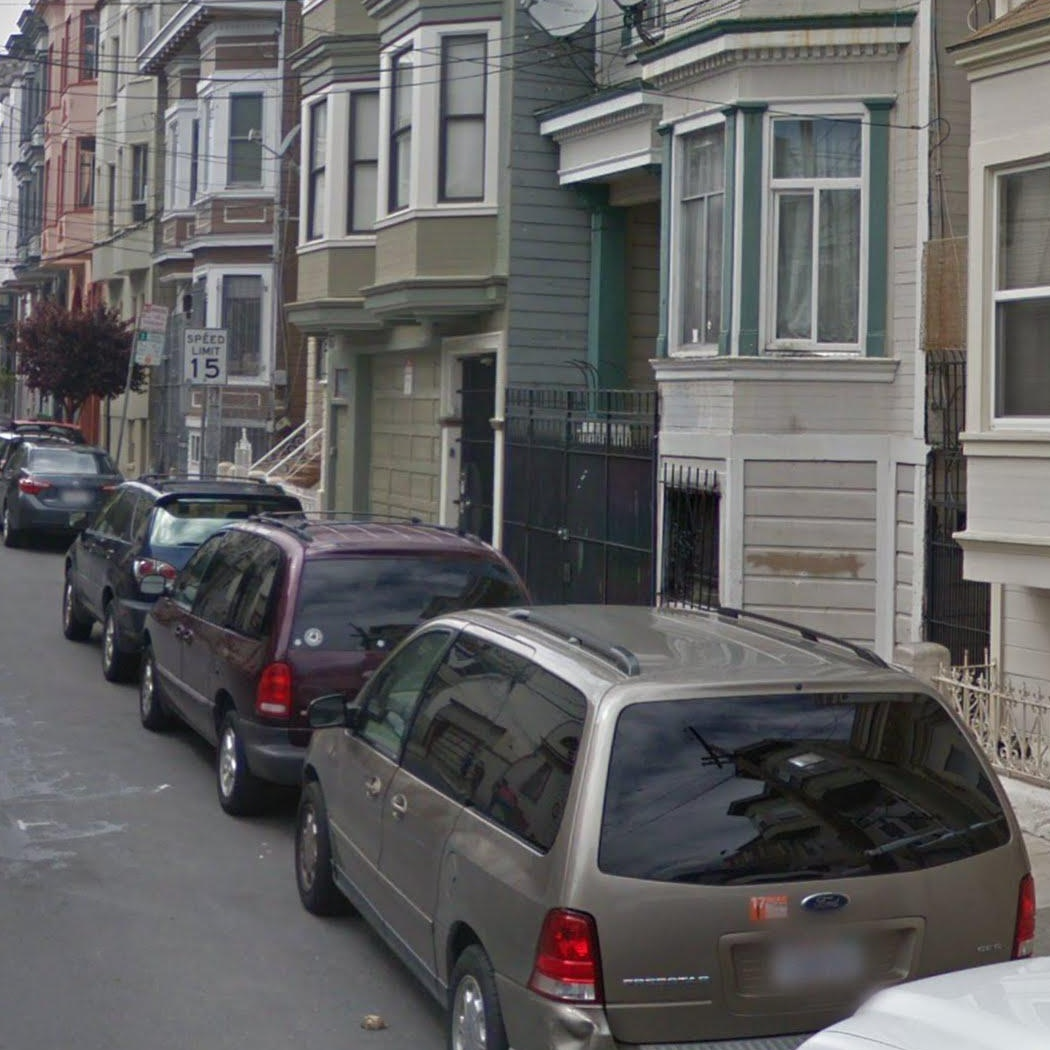1 Hour Parking: (133, 333, 167, 367)
No Parking: (137, 303, 171, 336)
